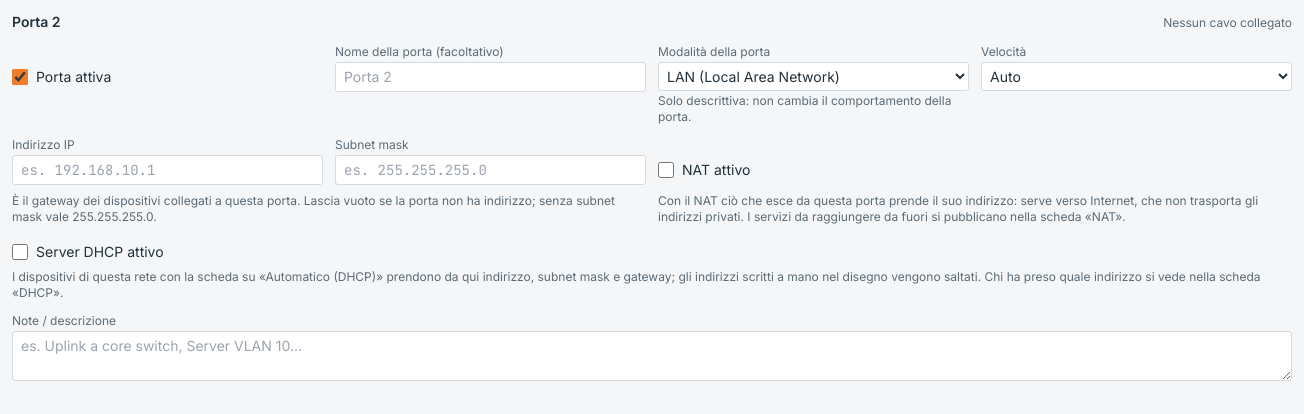
Scenario: PortEditor — NAT › warns while the port has no address: there is nothing to translate to
The width and height of the screenshot is (1304, 414).
Expected: the text "finché non ne ha uno il NAT non traduce nulla" is not shown
Step 1. Click the checkbox labelled "NAT attivo" → click(666, 170), box [658,162,674,178]
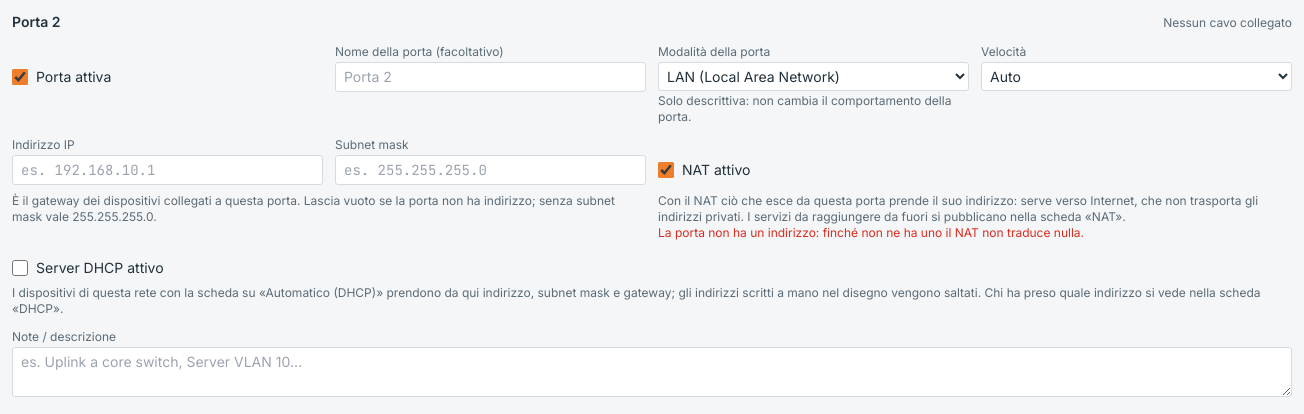
Result: the text "La porta non ha un indirizzo: finché non ne ha uno il NAT non traduce nulla." is shown at [658,225,1084,240]
